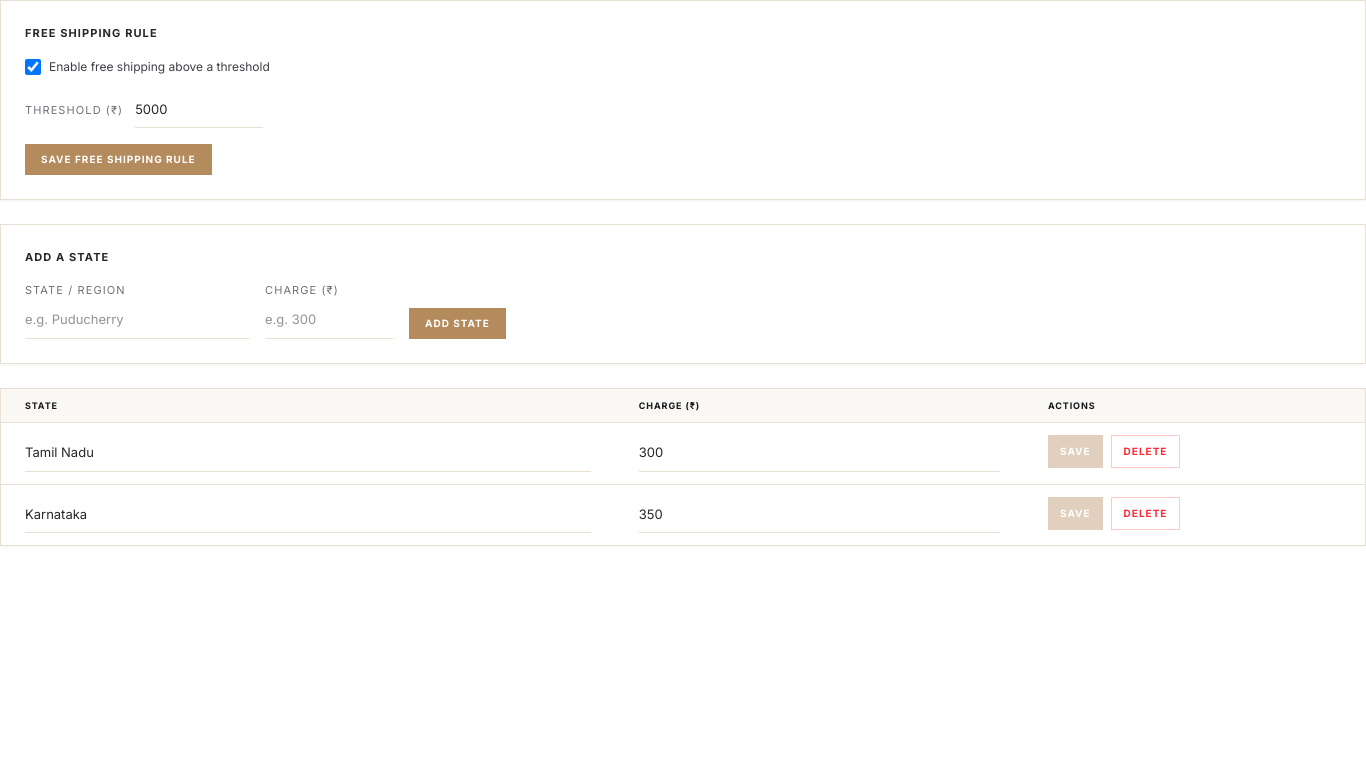
Test: ShippingSettingsPage › preserves an unsaved edit in one row when a background refetch reflects a genuine change in a different row
Note: Admin types into Karnataka but hasn't clicked its Save button yet.
Replace the text in the field named "Shipping charge for Karnataka" with "999": (819, 515) [639, 496, 1000, 533]
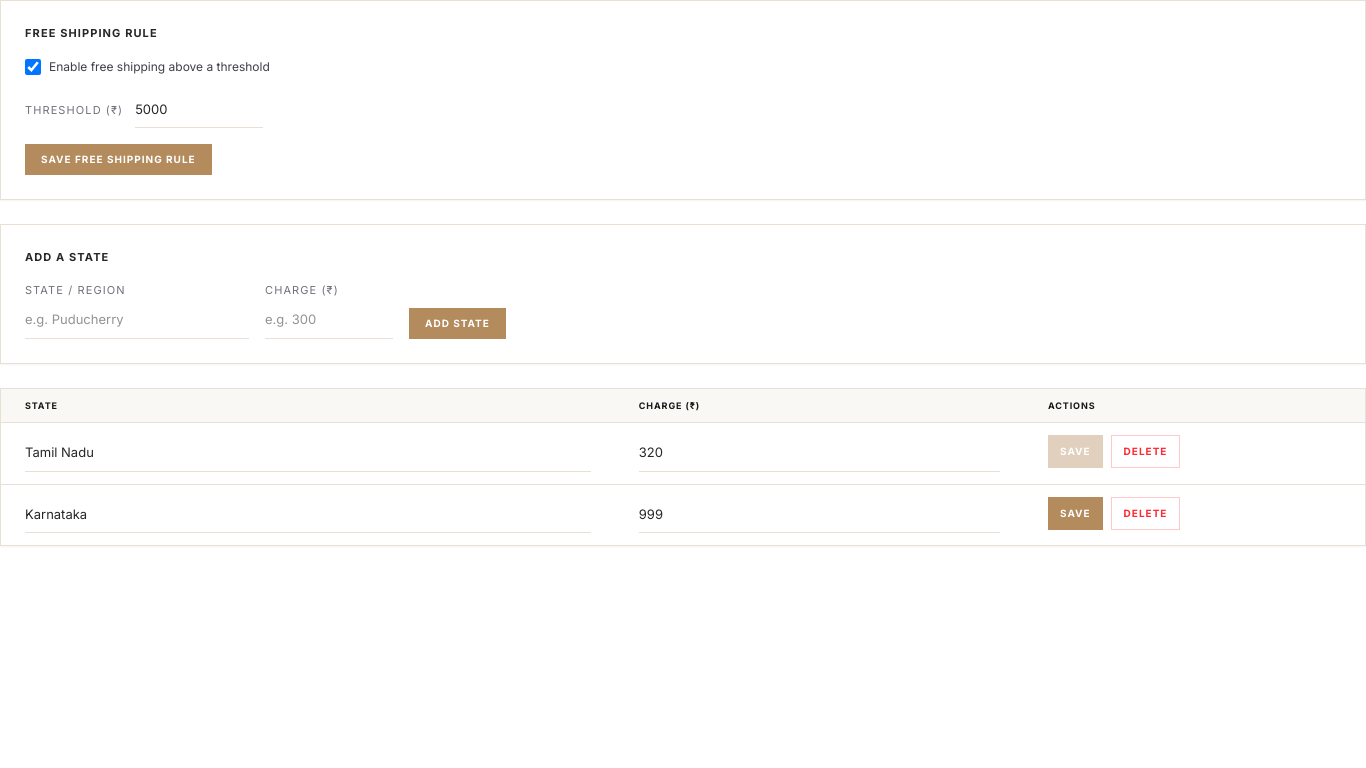
Check: the field named "Shipping charge for Tamil Nadu" holds "320", box [639, 435, 1000, 472]
